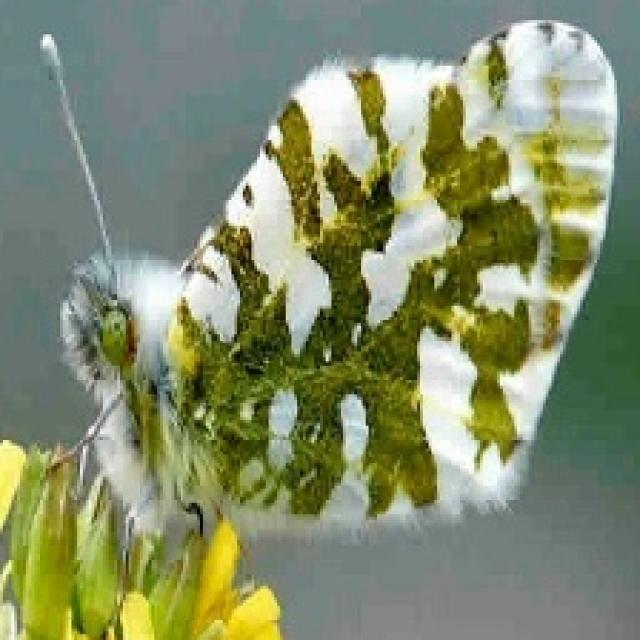butterfly: (34, 14, 620, 569)
